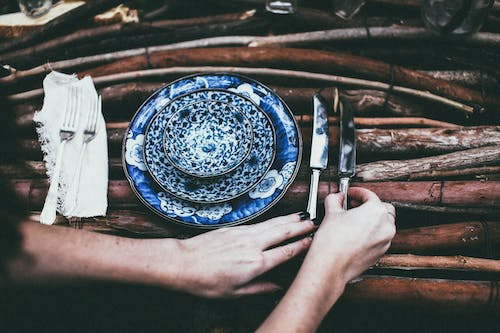knife: (304, 93, 330, 221), (338, 96, 356, 212)
